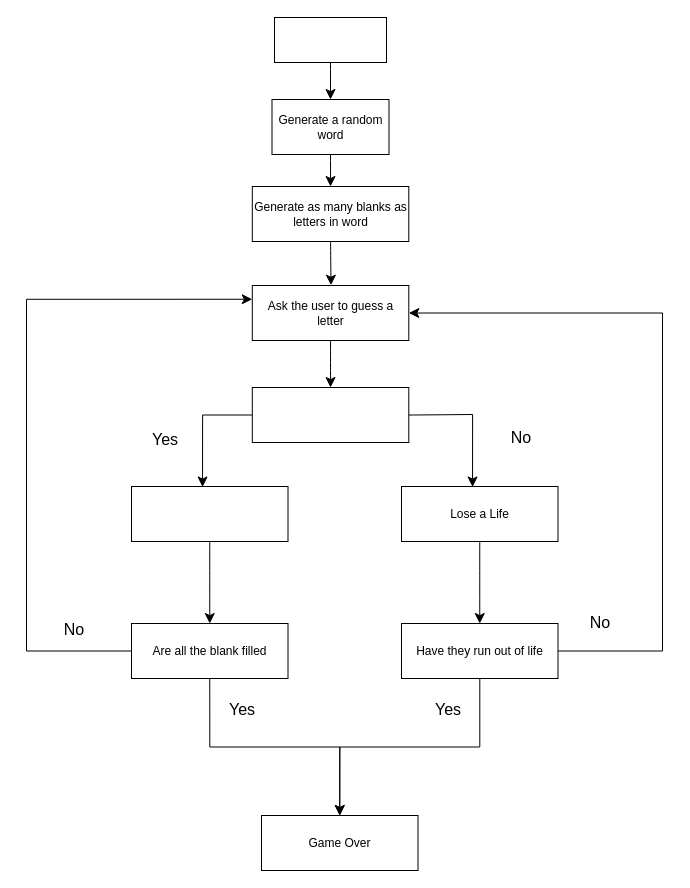
Image size: 690x888. Some labels were removed from this diagram. Here are the shapes that lost their labels. From the top down, the centre of each, then its label:
the point at 330,39: START
the point at 330,414: Is the guessed letter in the word?
the point at 209,514: Replace the blank with the letter
